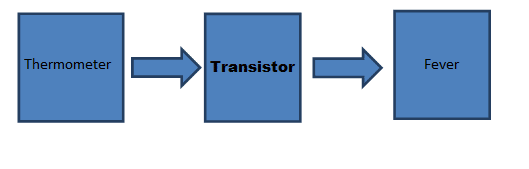arrow: (310, 44, 384, 91), (129, 46, 203, 89)
process: (16, 12, 126, 126), (202, 10, 304, 125), (391, 7, 493, 121)
text: (22, 57, 113, 72), (209, 59, 298, 73), (423, 56, 461, 73)
